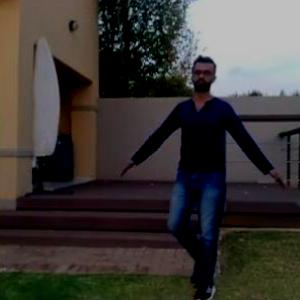land: (138, 75, 274, 283)
